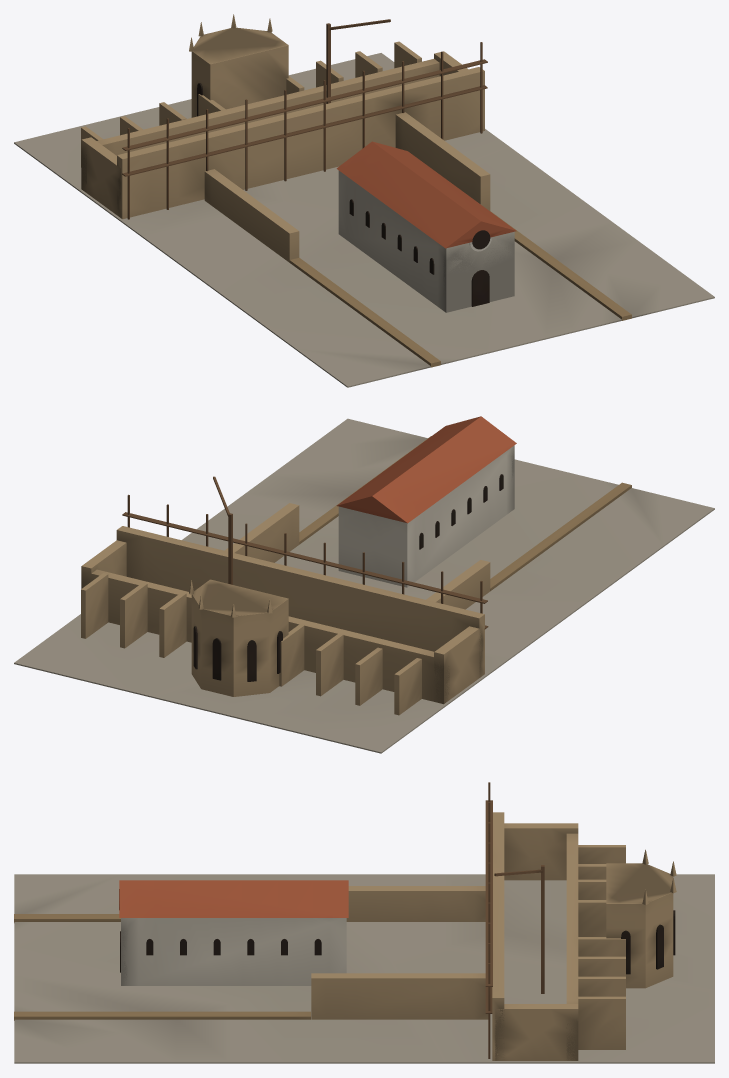
Rendered from santa-croce-1300.glb.
3 views of the same model, one above another, from view 1: azimuth 30°, elevation 25°; view 2: azimuth 150°, elevation 25°; view 3: azimuth 270°, elevation 25° (orthographic). The views are drawn at different scales.
Visible parts, largest first — view 1: p0_old church, p1_new walls, p2_scaffolding; view 2: p0_old church, p1_new walls, p2_scaffolding; view 3: p0_old church, p1_new walls, p2_scaffolding.
Part boxes in pixels (bbox=[...]): p0_old church: bbox=[14, 53, 714, 387]; p1_new walls: bbox=[81, 14, 631, 367]; p2_scaffolding: bbox=[122, 19, 487, 219]; p0_old church: bbox=[14, 416, 714, 753]; p1_new walls: bbox=[81, 436, 631, 715]; p2_scaffolding: bbox=[122, 476, 488, 629]; p0_old church: bbox=[14, 874, 714, 1063]; p1_new walls: bbox=[14, 812, 676, 1060]; p2_scaffolding: bbox=[485, 782, 544, 1058].
Size of the model in its own units: 75 by 26.24 by 118.
